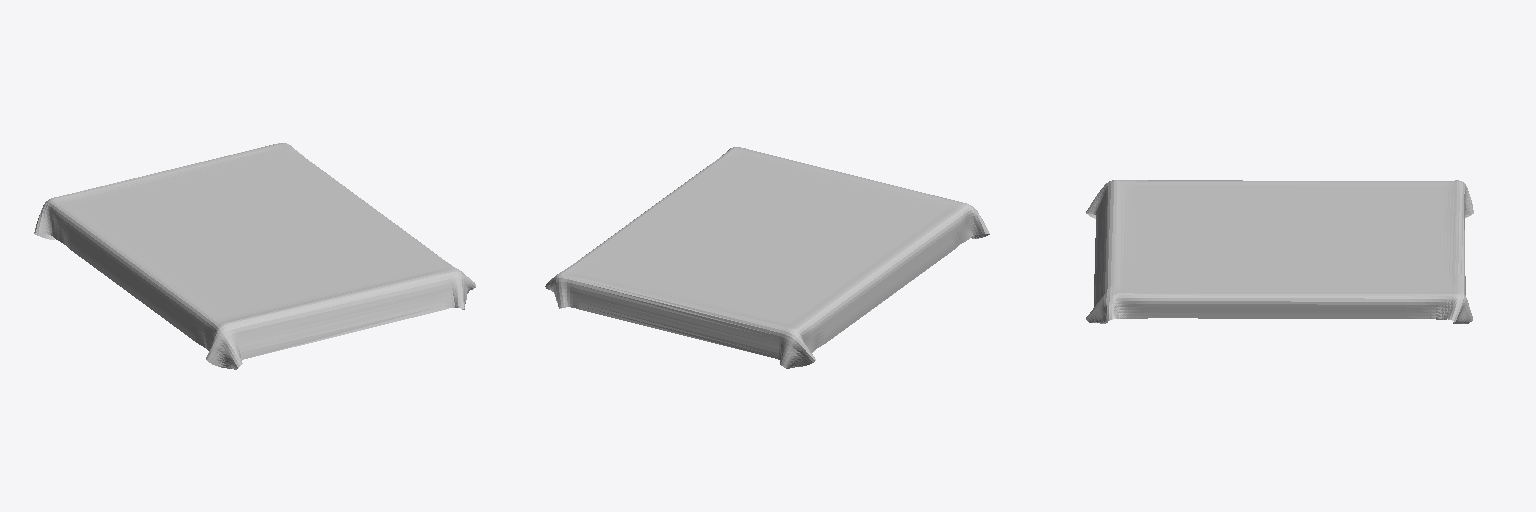
File: blanket.obj
3 views of the same model, side by side, from view 1: azimuth 30°, elevation 25°; view 2: azimuth 150°, elevation 25°; view 3: azimuth 270°, elevation 25° (orthographic).
Visible parts, largest first — view 1: polySurface276 polySurface261; view 2: polySurface276 polySurface261; view 3: polySurface276 polySurface261.
Boxes of the visible parts, box(x1,y1,x2,y2) form: polySurface276 polySurface261: box(34, 143, 475, 369); polySurface276 polySurface261: box(545, 147, 989, 368); polySurface276 polySurface261: box(1086, 180, 1473, 323).
Size of the model in its own units: 11.56 by 1.63 by 14.33.